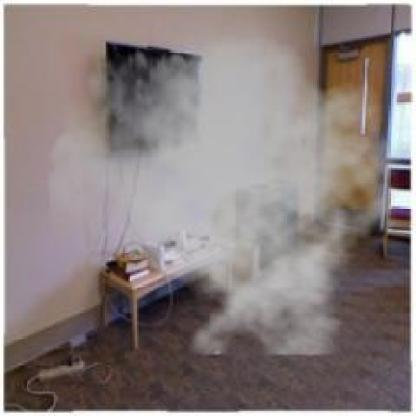Smoke: (47, 2, 412, 354)
